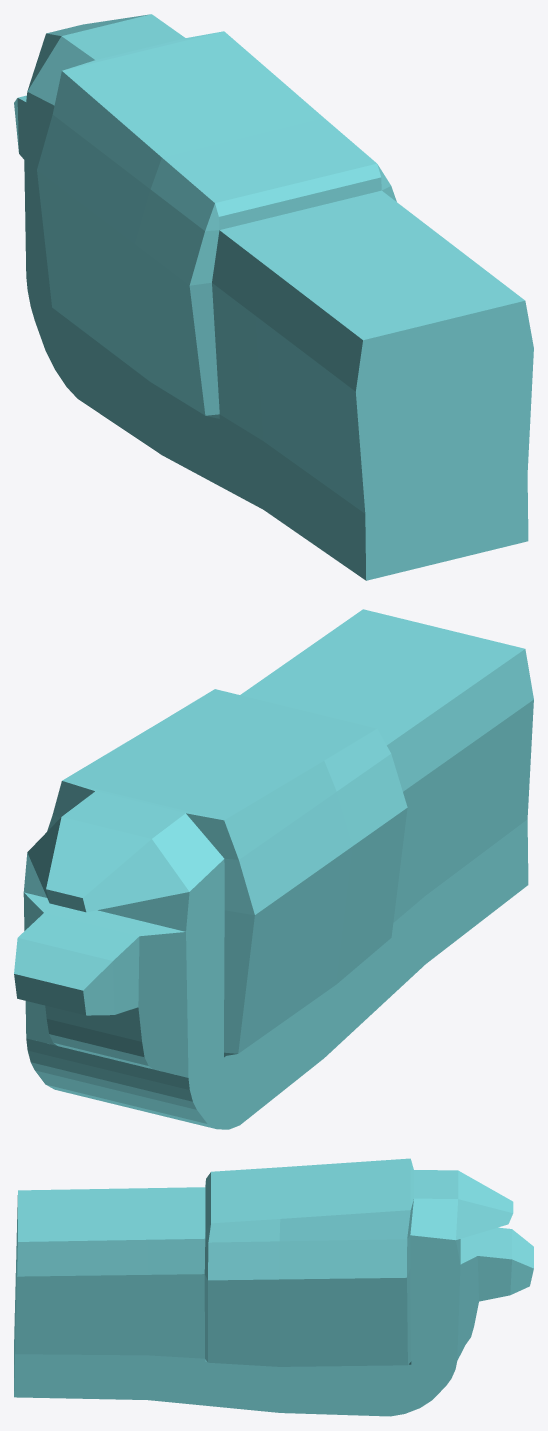
The model's file is Body_Maliwan.glb.
3 views of the same model, one above another, from view 1: azimuth 30°, elevation 25°; view 2: azimuth 150°, elevation 25°; view 3: azimuth 270°, elevation 25° (orthographic). The views are drawn at different scales.
Visible parts, largest first — view 1: Body.Maliwan; view 2: Body.Maliwan; view 3: Body.Maliwan.
Part boxes in pixels (left/top/right/bottom): Body.Maliwan: left=14, top=14, right=533, bottom=580; Body.Maliwan: left=14, top=609, right=533, bottom=1129; Body.Maliwan: left=14, top=1158, right=533, bottom=1416.
Size of the model in its own units: 0.2737 by 0.3798 by 0.8669.
